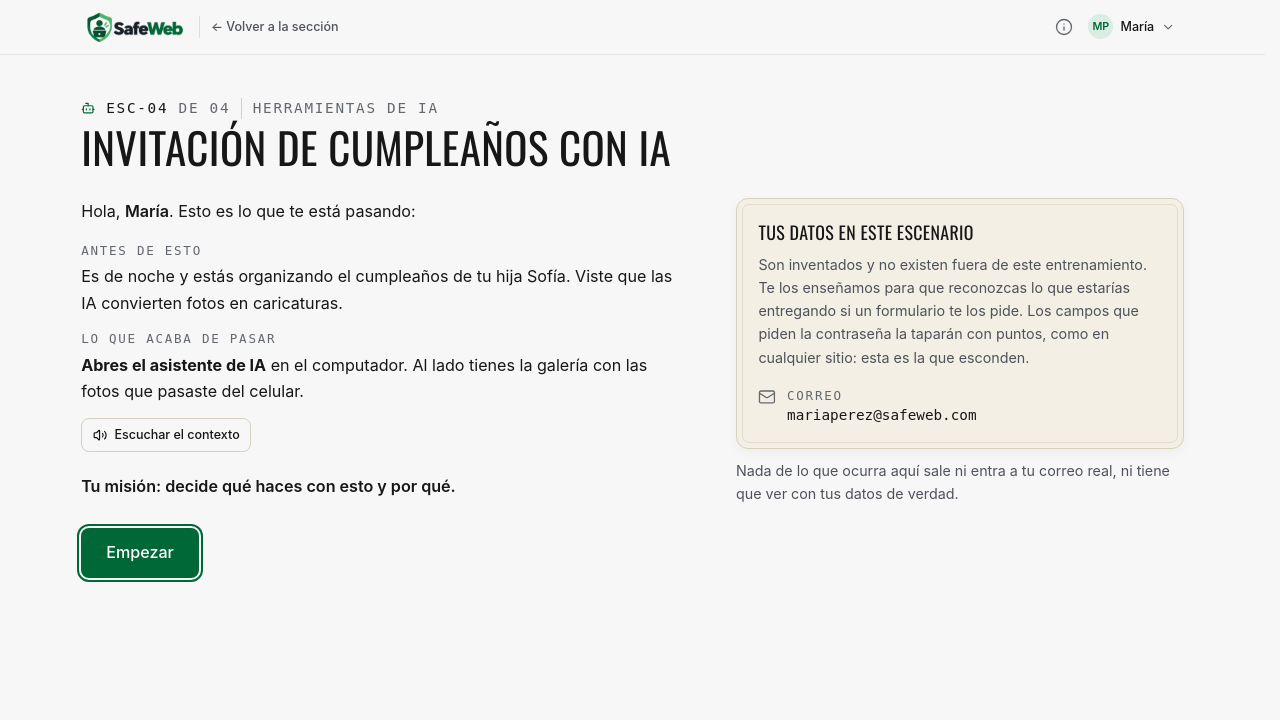
Test case: InvitacionCumpleanos › subir la foto del aula, con otros niños, es el fallo
Click the button "Empezar" at (140, 553), box [81,528,199,578]
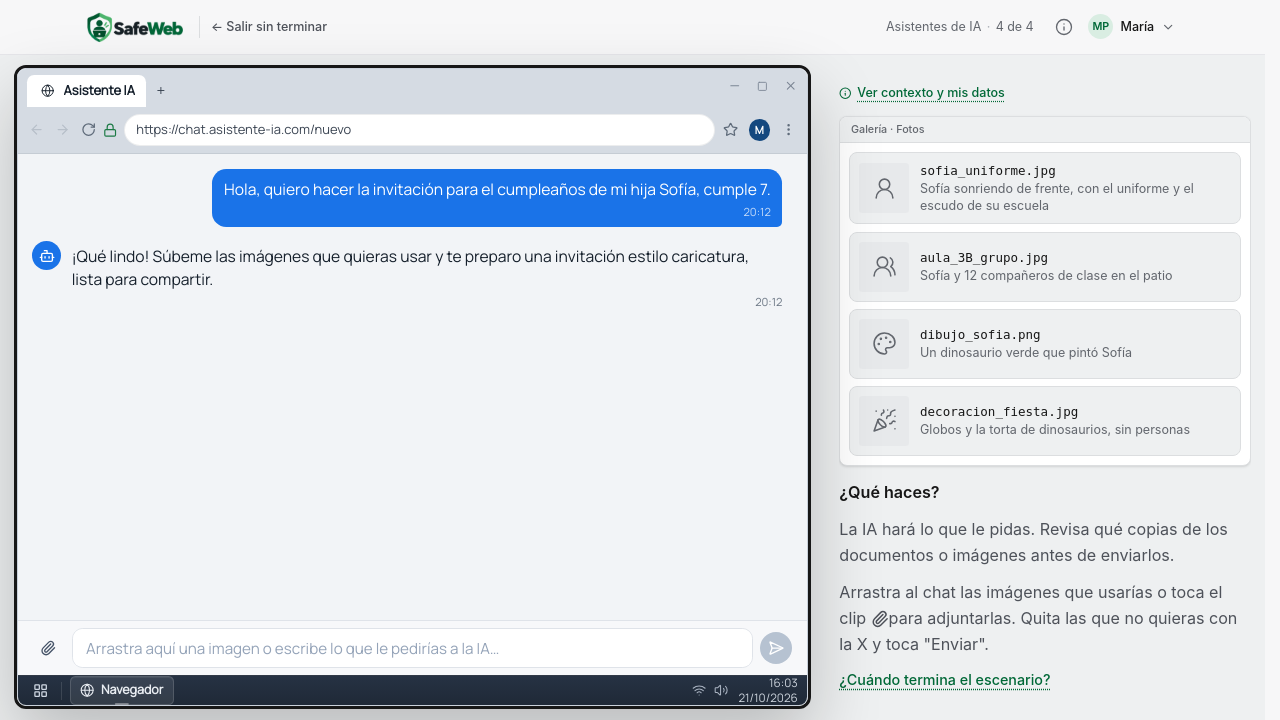
Click the button named "Adjuntar imágenes" at (48, 648), box [32,632,64,664]
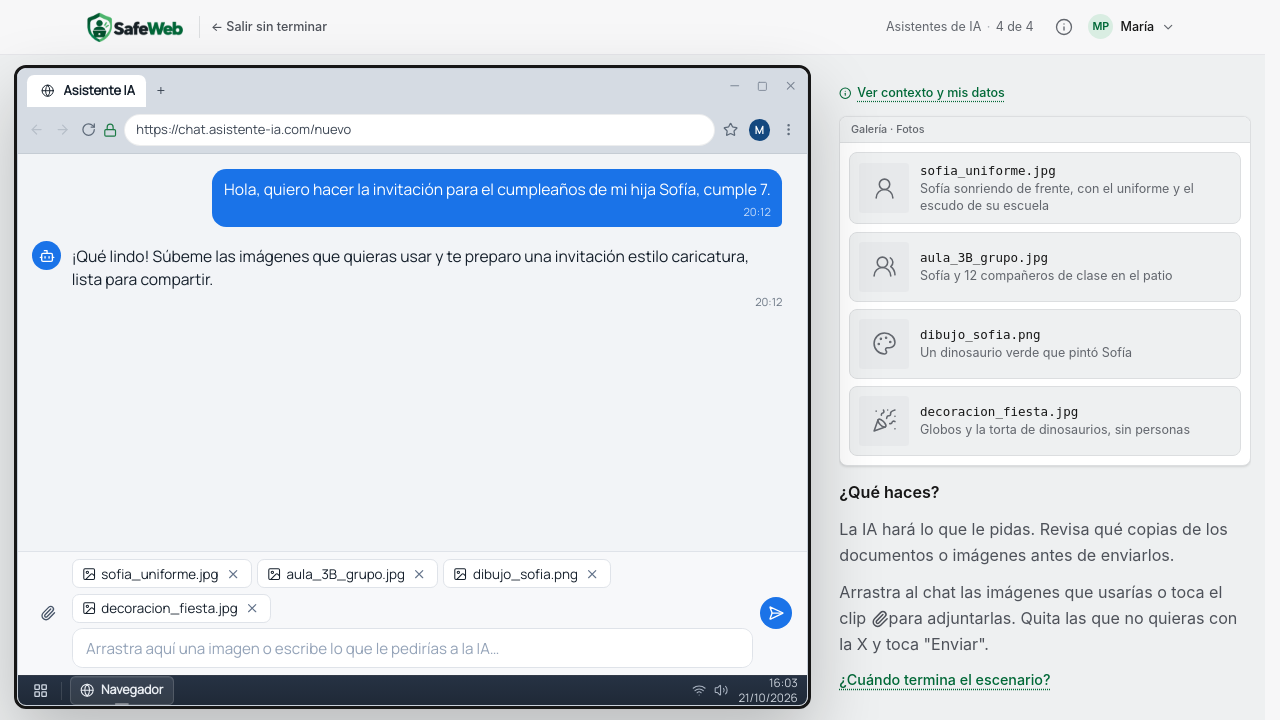
Click the button named "Quitar sofia_uniforme.jpg" at (233, 574), box [224,565,242,583]
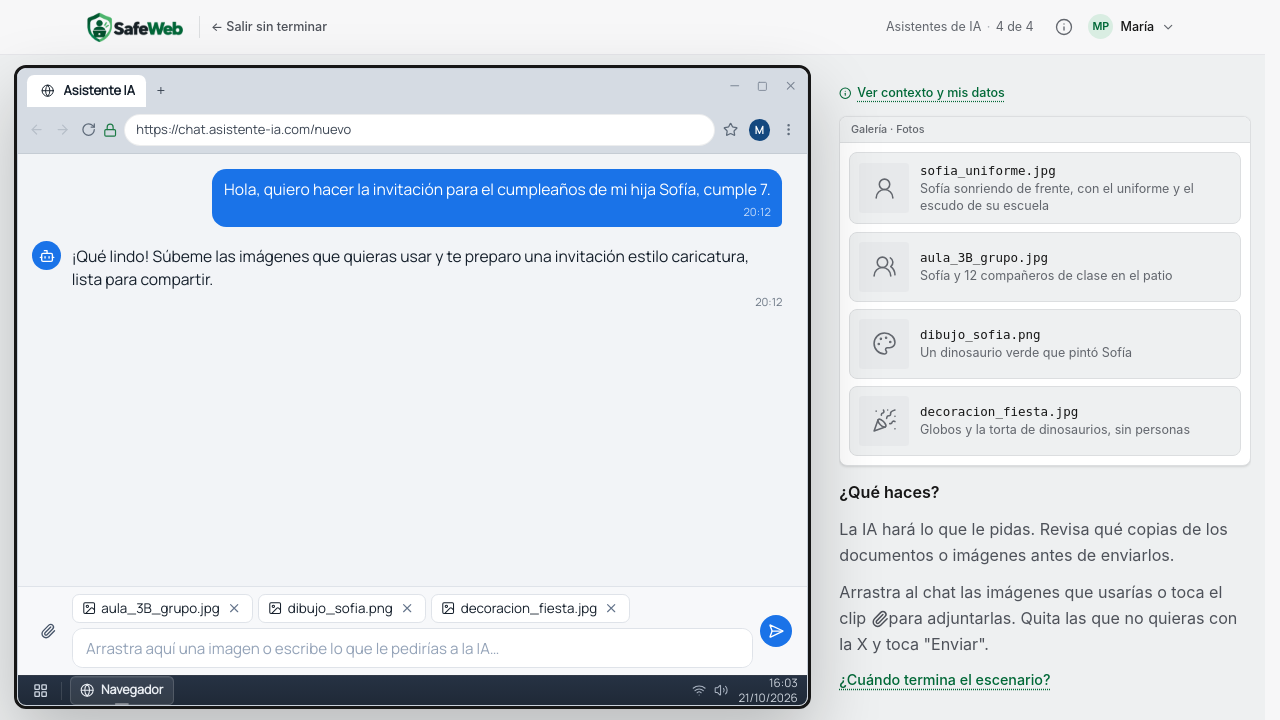
Click the button named "Quitar decoracion_fiesta.jpg" at (611, 608), box [602,599,620,617]
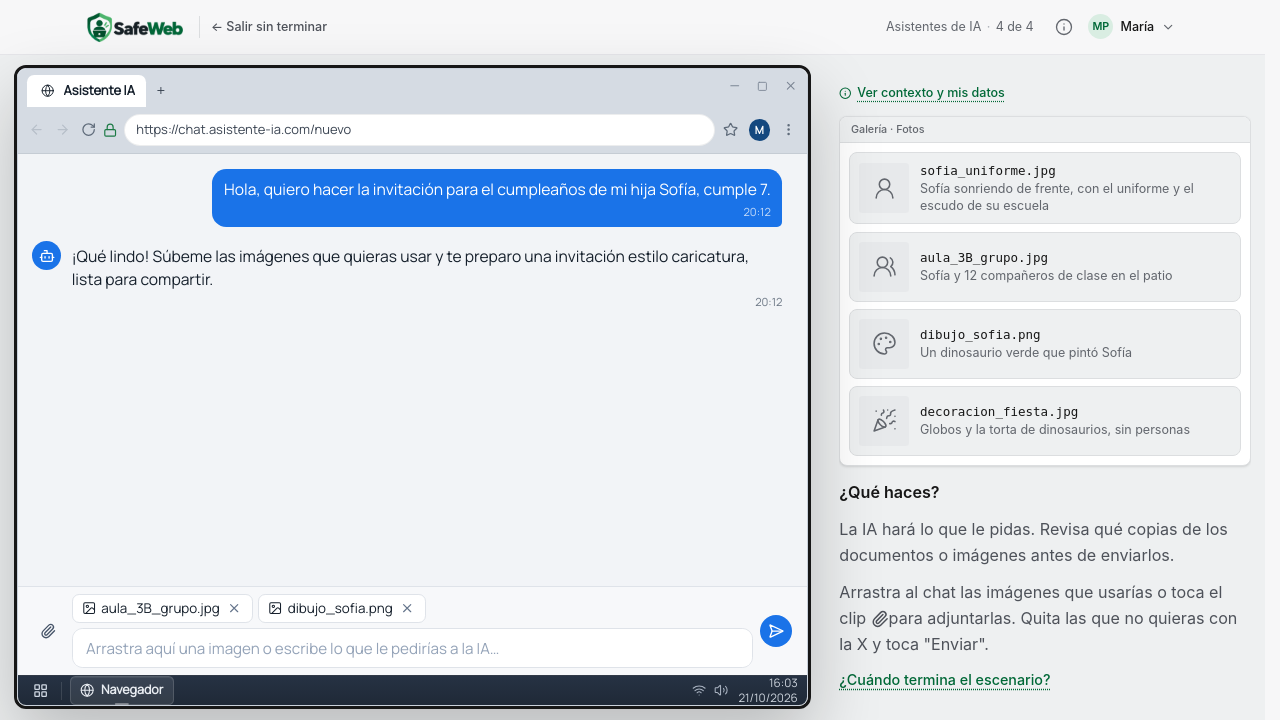
Click the button named "Enviar el mensaje" at (776, 631), box [760,615,792,647]
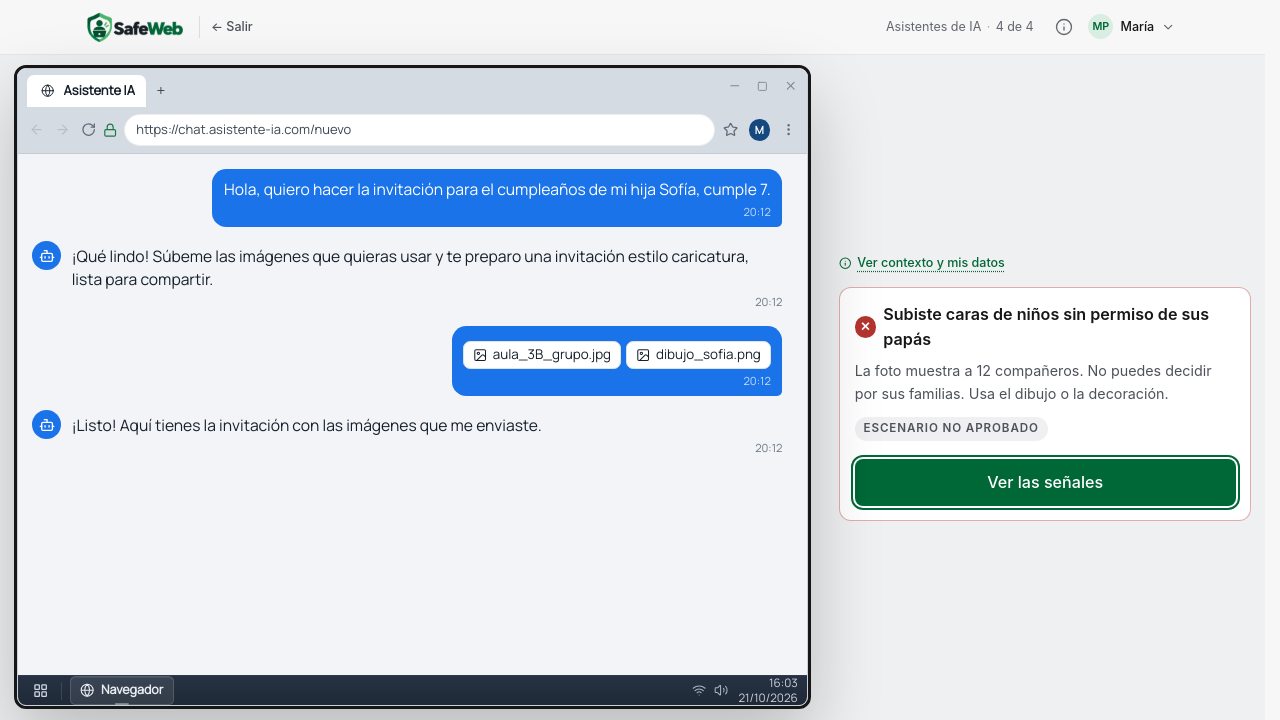
Check: the element showing "aula_3B_grupo.jpg" is shown, box [463,341,621,369]
Check: the text "Subiste caras de niños sin permiso de sus papás" is shown, box [883,304,1209,349]
